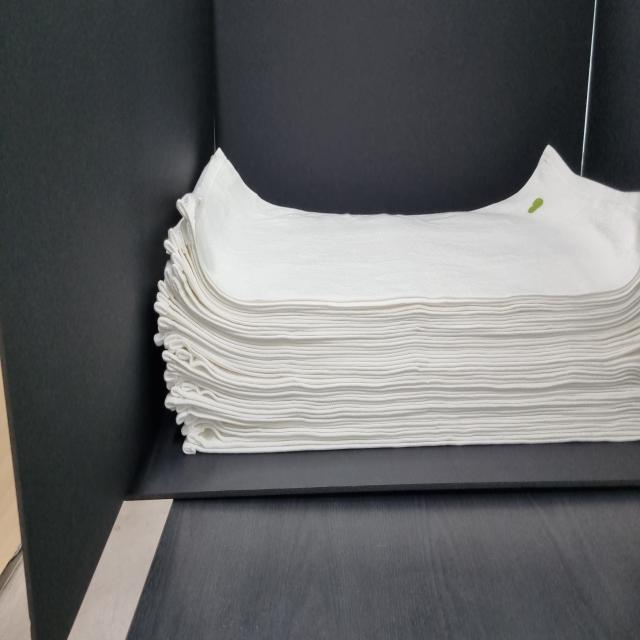not_50count_towel: (142, 141, 640, 461)
